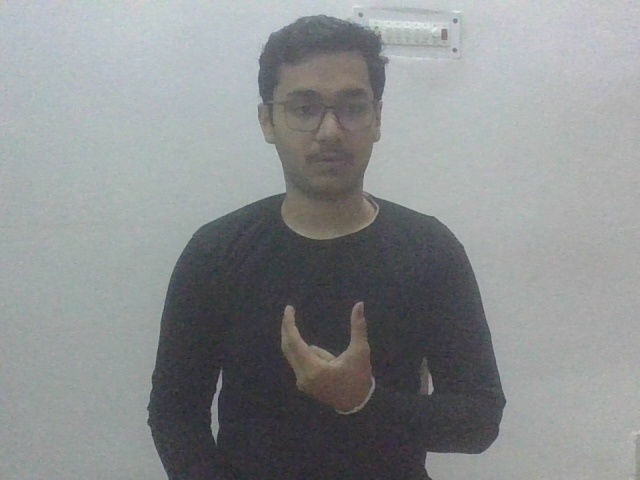U: (267, 297, 382, 418)
